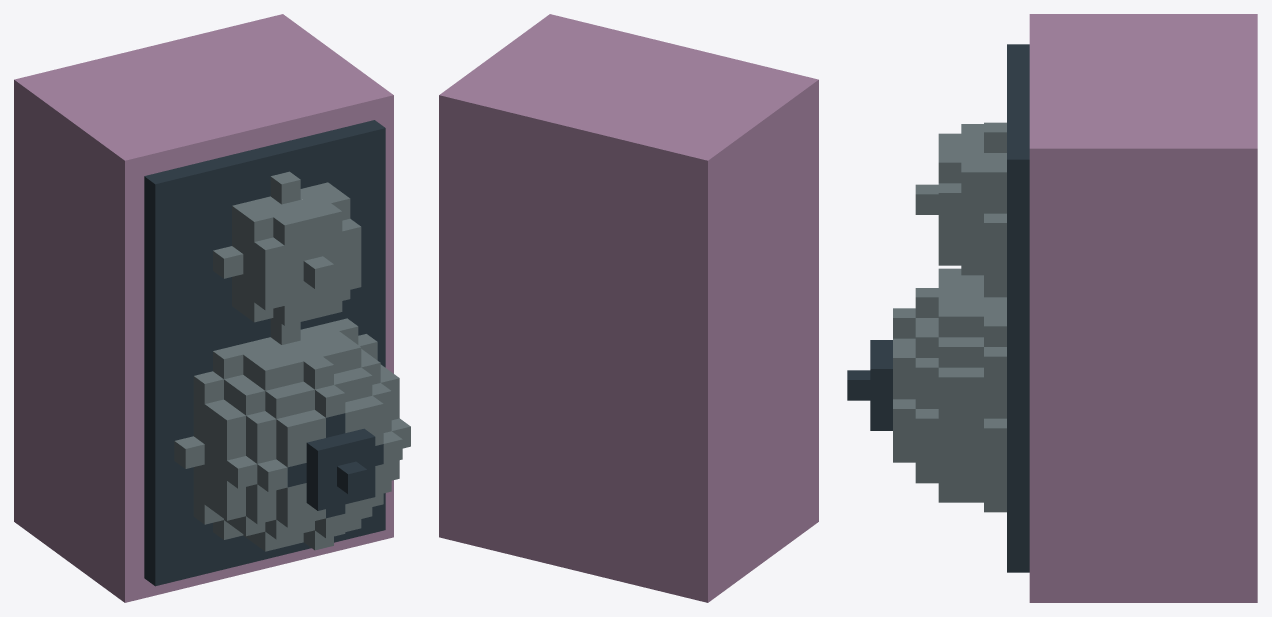
The model's file is events-03.glb.
3 views of the same model, side by side, from view 1: azimuth 30°, elevation 25°; view 2: azimuth 150°, elevation 25°; view 3: azimuth 270°, elevation 25° (orthographic). The views are drawn at different scales.
Visible parts, largest first — view 1: Stage speaker; view 2: Stage speaker; view 3: Stage speaker.
Boxes of the visible parts, bbox=[...] form: Stage speaker: bbox=[14, 14, 410, 602]; Stage speaker: bbox=[439, 14, 818, 602]; Stage speaker: bbox=[847, 14, 1257, 602].
Bounding box in the file's own units: 1.12 × 1.76 × 1.44.
